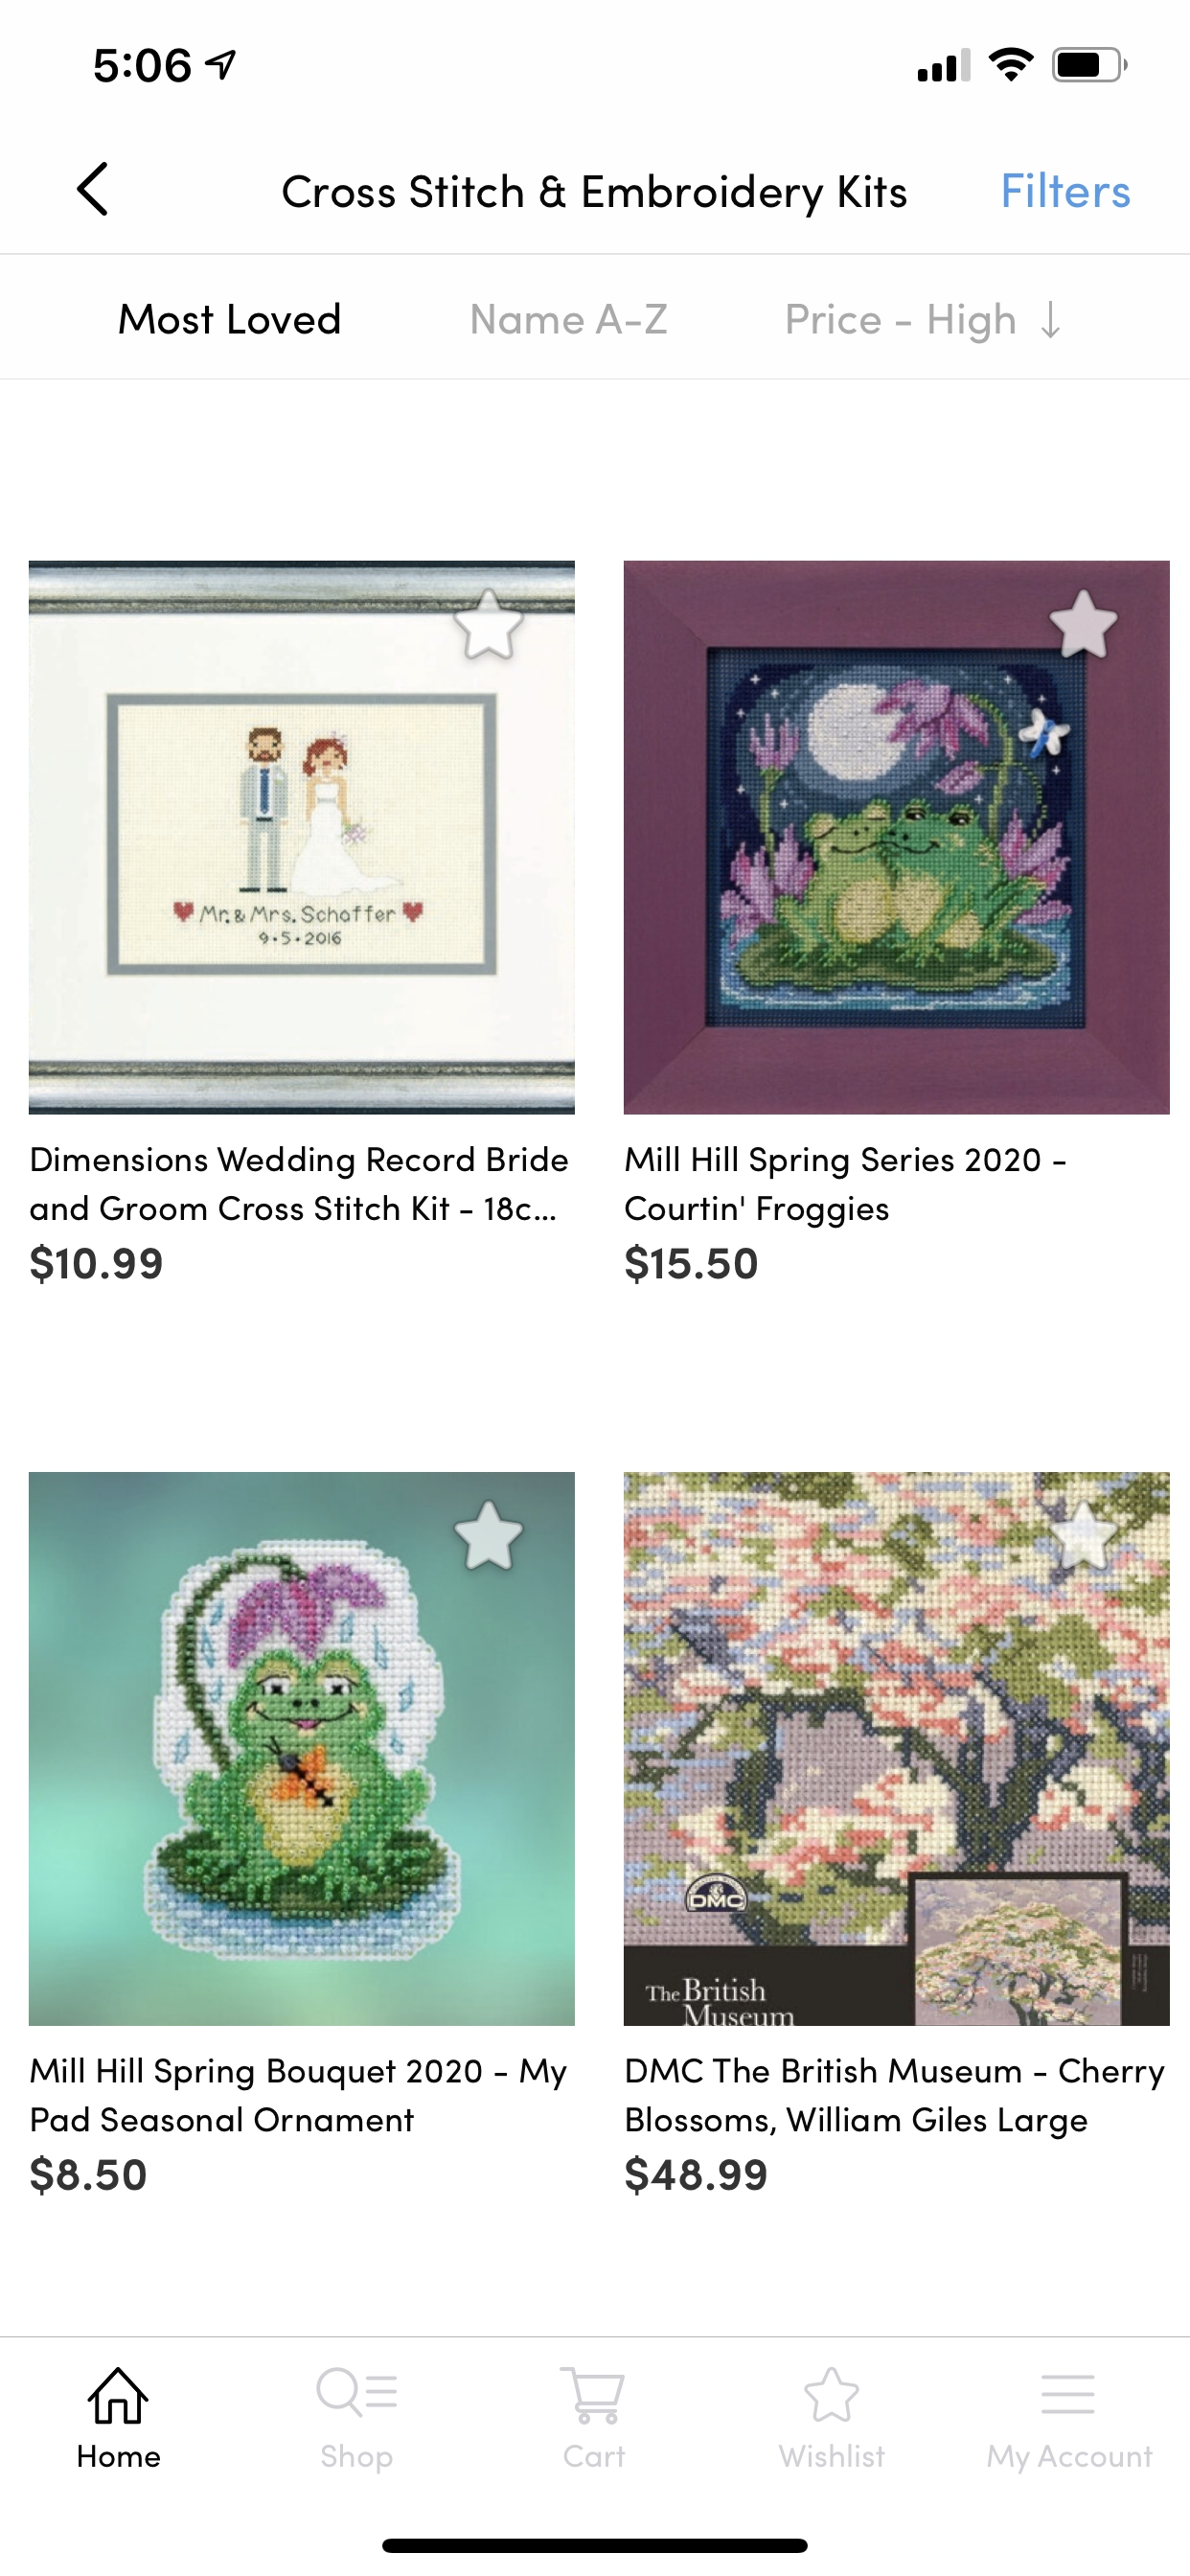Icon: (454, 588, 524, 660), (1049, 588, 1119, 659), (454, 1502, 524, 1571), (1049, 1502, 1118, 1571), (316, 2366, 396, 2418), (559, 2366, 625, 2425), (87, 2367, 148, 2425), (804, 2366, 860, 2422), (1040, 2374, 1095, 2413), (77, 163, 108, 217), (1040, 301, 1060, 338)
Image: (623, 1472, 1170, 2026), (28, 1472, 575, 2026), (623, 560, 1170, 1114), (28, 560, 575, 1114)
Text: (626, 2057, 1165, 2141), (31, 2057, 567, 2132), (30, 1147, 569, 1221), (625, 1147, 1065, 1229), (283, 174, 906, 217), (787, 302, 1014, 345), (120, 302, 340, 335), (472, 304, 667, 335), (626, 2154, 766, 2195), (626, 1244, 758, 1285), (31, 1244, 163, 1285), (986, 2445, 1152, 2474), (1003, 171, 1129, 209), (31, 2154, 146, 2195), (777, 2443, 886, 2468), (321, 2443, 393, 2474), (79, 2445, 161, 2468), (564, 2445, 626, 2468)
UpperTaskBar: (94, 48, 1128, 84)
